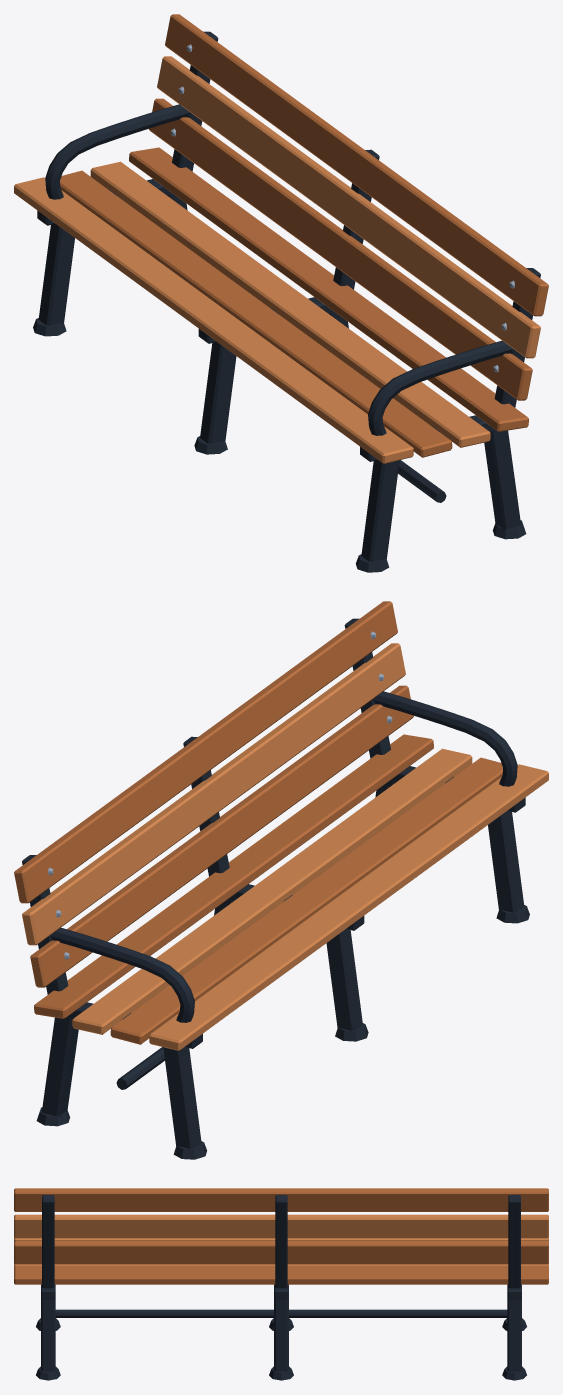
Rendered from banco_estacion.glb.
3 views of the same model, one above another, from view 1: azimuth 30°, elevation 25°; view 2: azimuth 150°, elevation 25°; view 3: azimuth 270°, elevation 25° (orthographic). The views are drawn at different scales.
Parts seen in each view (by area): view 1: Banco_Estacion; view 2: Banco_Estacion; view 3: Banco_Estacion.
Boxes of the visible parts, x1,y1,x2,y2 form: Banco_Estacion: (14,14,548,572); Banco_Estacion: (14,601,548,1159); Banco_Estacion: (14,1188,548,1380).
Size of the model in its own units: 0.6576 by 0.918 by 2.34.
